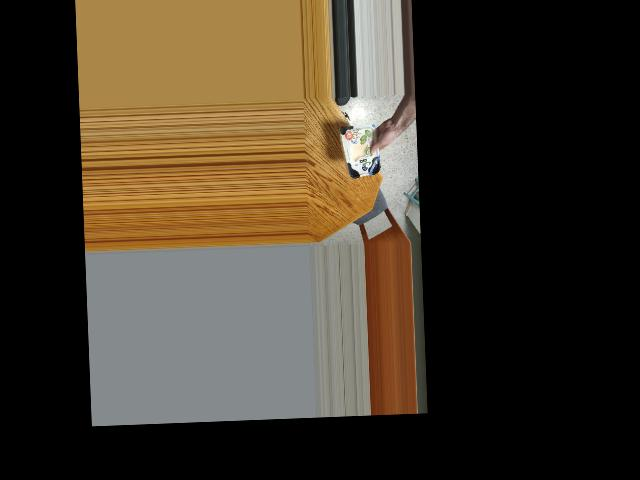cheese: (340, 123, 386, 178)
